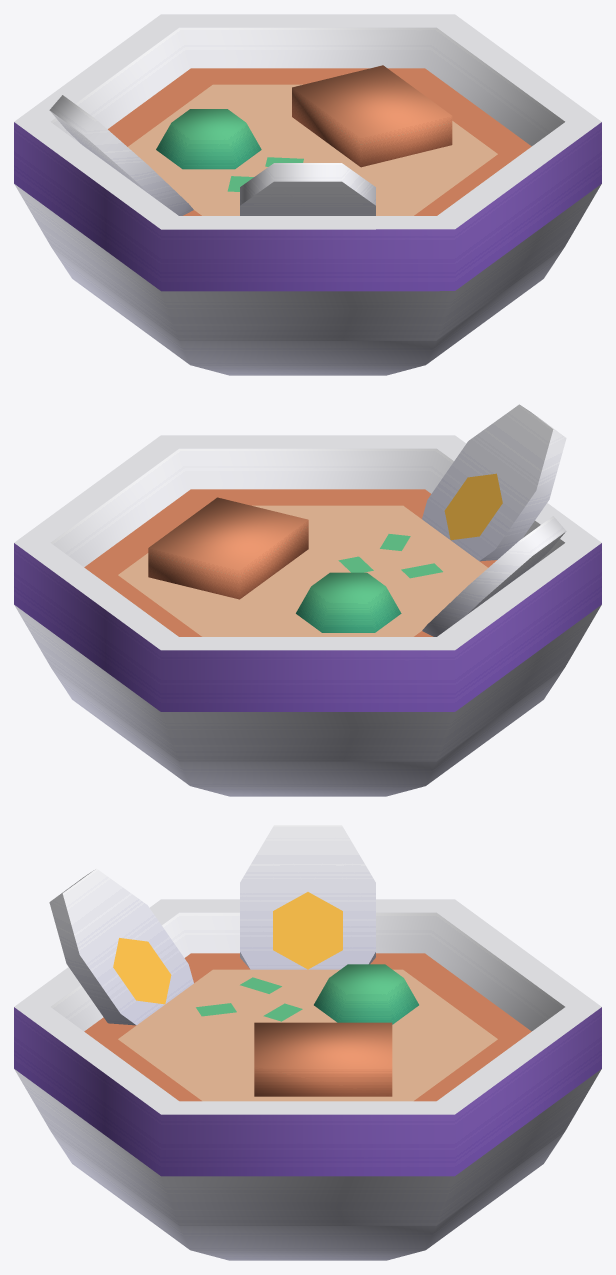
The model's file is kf_bowl-broth.glb.
3 renders of one model, top to bottom at view 1: azimuth 30°, elevation 25°; view 2: azimuth 150°, elevation 25°; view 3: azimuth 270°, elevation 25°, orthographic.
Visible parts, largest first — view 1: bowl-broth; view 2: bowl-broth; view 3: bowl-broth.
Part boxes in pixels (x1,y1,x2,y2): bowl-broth: (14,14,601,375); bowl-broth: (14,404,601,796); bowl-broth: (14,825,601,1260).
Bounding box in the file's own units: 0.1534 × 0.0846 × 0.169.
1 material, 1 textured.
